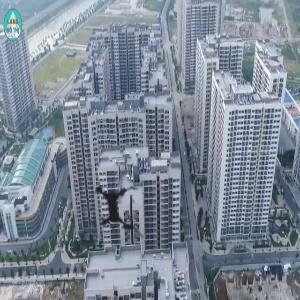drone: (59, 150, 178, 269)
